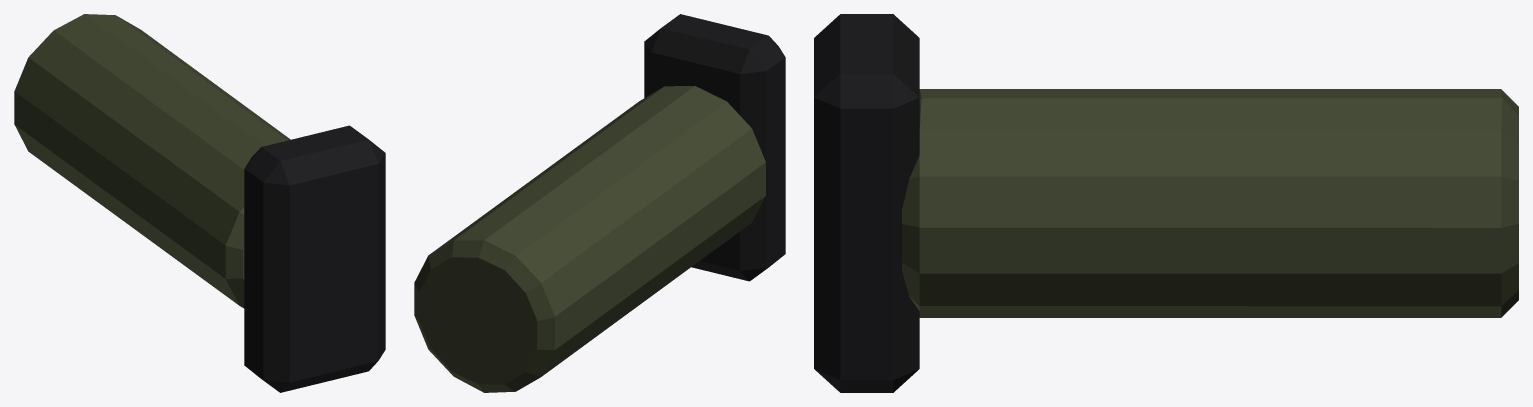
File: foregrip.glb
The picture shows the model from 3 angles, left to right: view 1: azimuth 30°, elevation 25°; view 2: azimuth 150°, elevation 25°; view 3: azimuth 270°, elevation 25°; orthographic projection. The views are drawn at different scales.
Visible parts, largest first — view 1: foregrip; view 2: foregrip; view 3: foregrip.
Boxes of the visible parts, x1,y1,x2,y2 form: foregrip: [14, 14, 385, 392]; foregrip: [414, 14, 785, 392]; foregrip: [814, 14, 1518, 392].
Bounding box in the file's own units: 0.0254 × 0.04 × 0.08.
